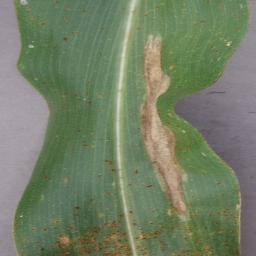Corn_Blight: (51, 225, 165, 256), (165, 223, 244, 256), (135, 33, 174, 99), (135, 99, 167, 156), (162, 185, 193, 221), (147, 156, 184, 185), (228, 174, 244, 222), (113, 210, 135, 226), (167, 120, 176, 157), (102, 153, 117, 172), (83, 139, 98, 153), (60, 34, 78, 45), (31, 223, 49, 233), (24, 39, 37, 51), (19, 0, 30, 12), (73, 203, 84, 214), (224, 38, 235, 49), (133, 165, 142, 177), (39, 244, 48, 255), (63, 173, 71, 185), (43, 172, 49, 181)
